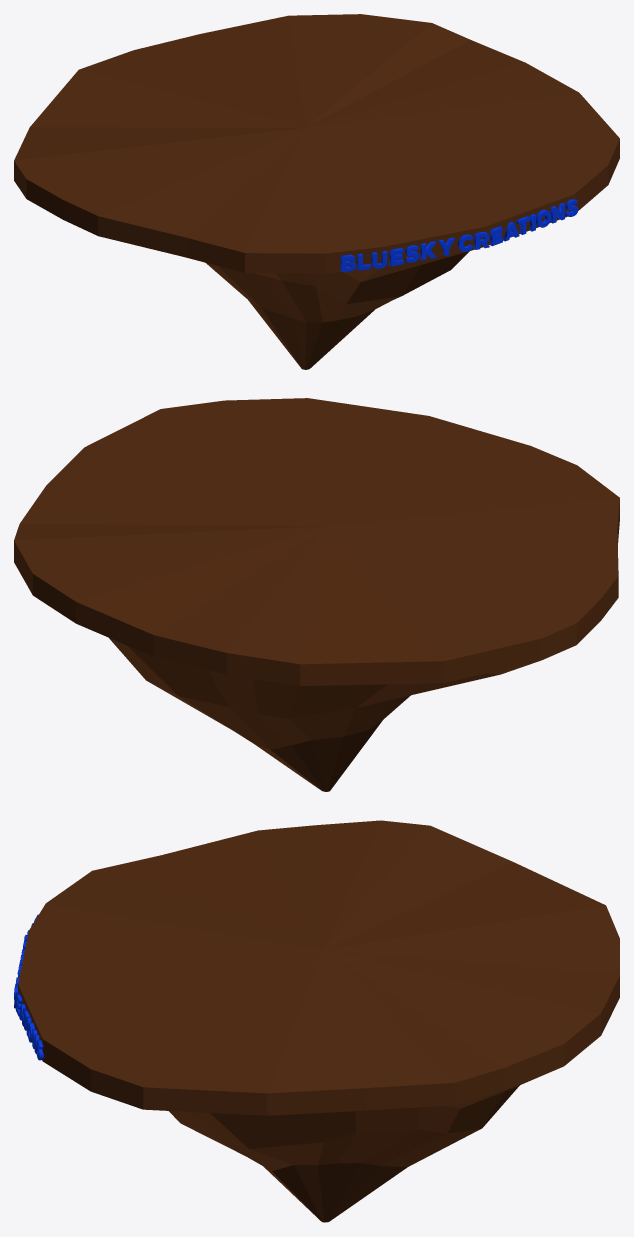
The model's file is island.glb.
The picture shows the model from 3 angles, top to bottom: view 1: azimuth 30°, elevation 25°; view 2: azimuth 150°, elevation 25°; view 3: azimuth 270°, elevation 25°; orthographic projection. The views are drawn at different scales.
Parts seen in each view (by area): view 1: Island; view 2: Island; view 3: Island.
Part boxes in pixels (x1=…): Island: x1=14, y1=14, x2=619, y2=369; Island: x1=14, y1=398, x2=619, y2=791; Island: x1=18, y1=820, x2=619, y2=1222.
Bounding box in the file's own units: 90.06 × 41.35 × 84.07.
